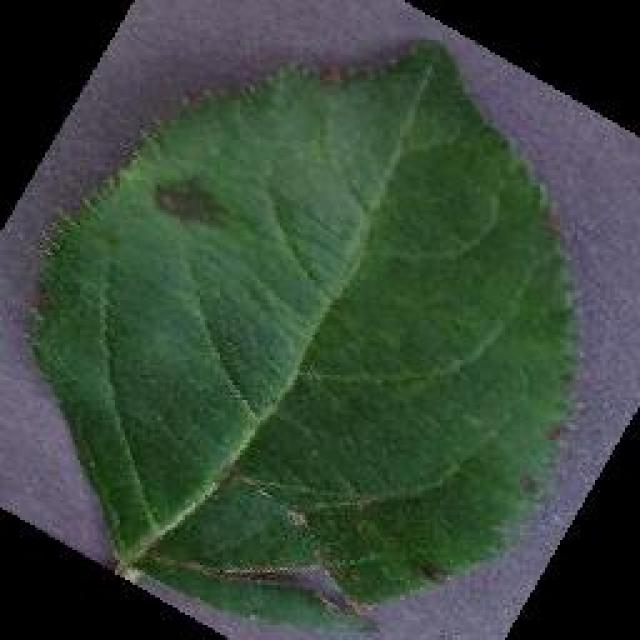apple scab disease: (23, 35, 585, 637)
